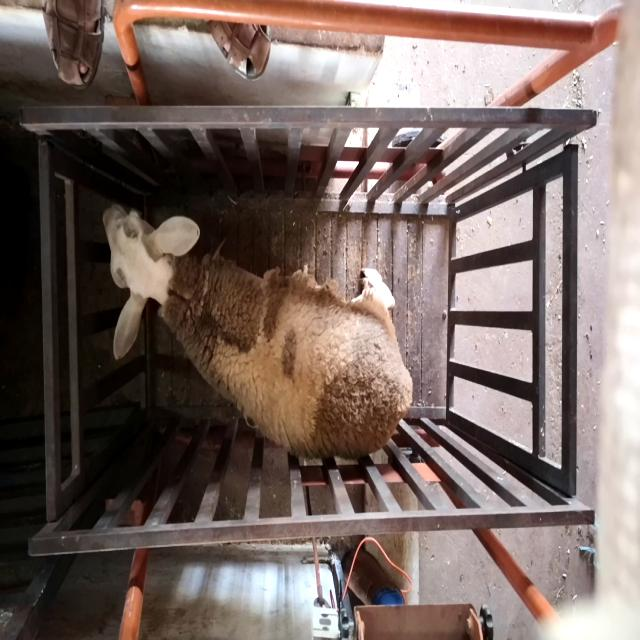sheep: (102, 204, 413, 459)
